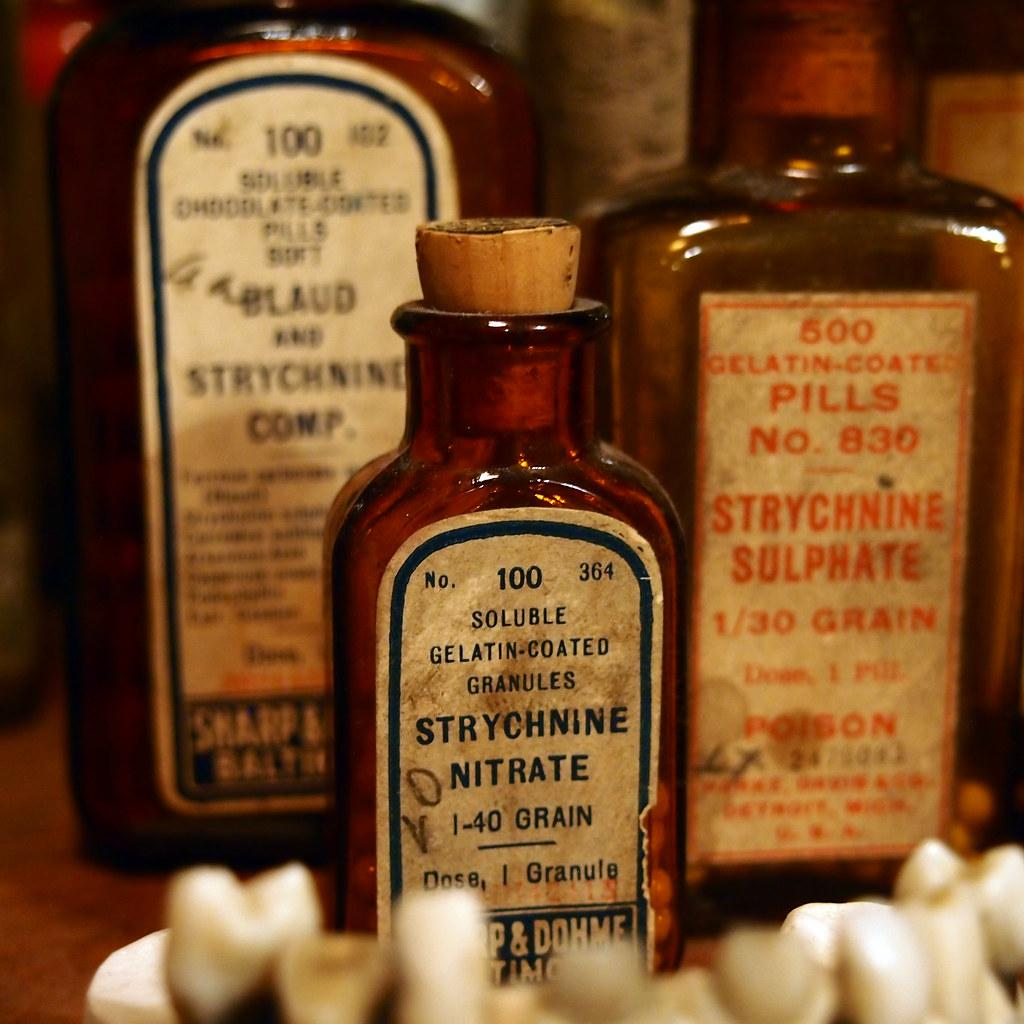bottle: (44, 1, 543, 875), (578, 2, 1024, 931), (324, 215, 689, 993)
